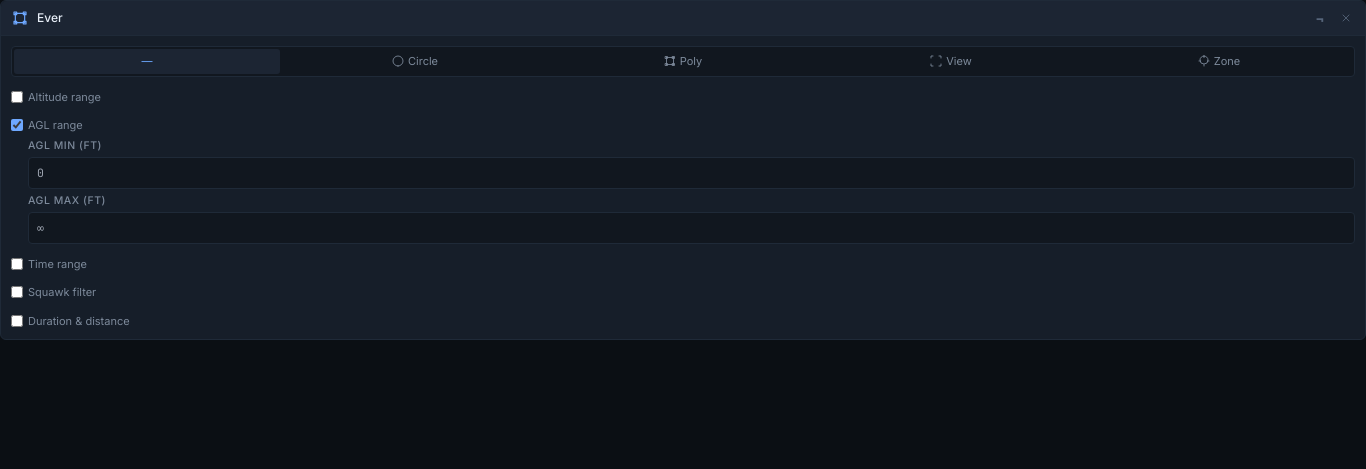
it: QueryBuilderBody › IntersectsCard › offers duration & distance when shape=none
This screenshot has width=1366, height=469.
Click the checkbox labelled "Duration & distance" at x=17, y=321, box [11,315,23,327]
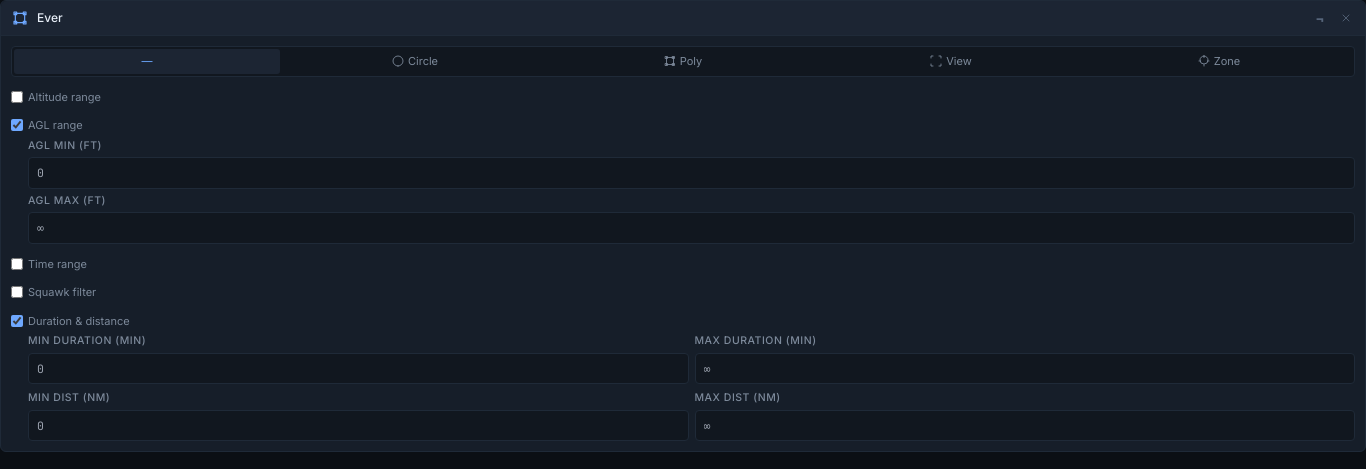
Expected: the text "Min duration (min)" is shown, [28,334,146,347]
Expected: the text "Max duration (min)" is shown, [694,334,817,347]
Expected: the text "Min dist (nm)" is shown, [28,391,110,404]
